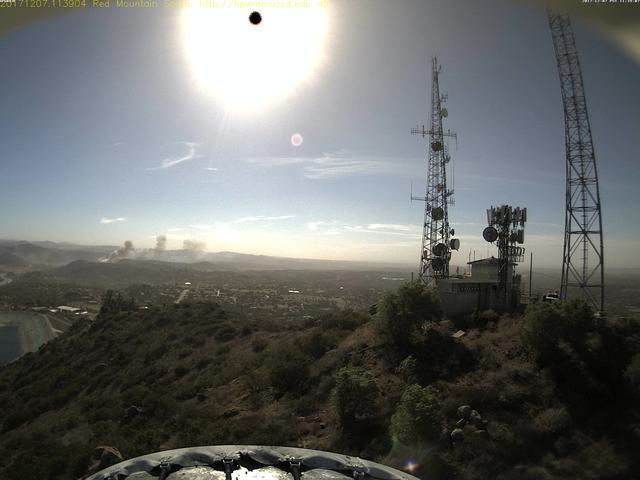Smoke: (90, 229, 210, 265)
